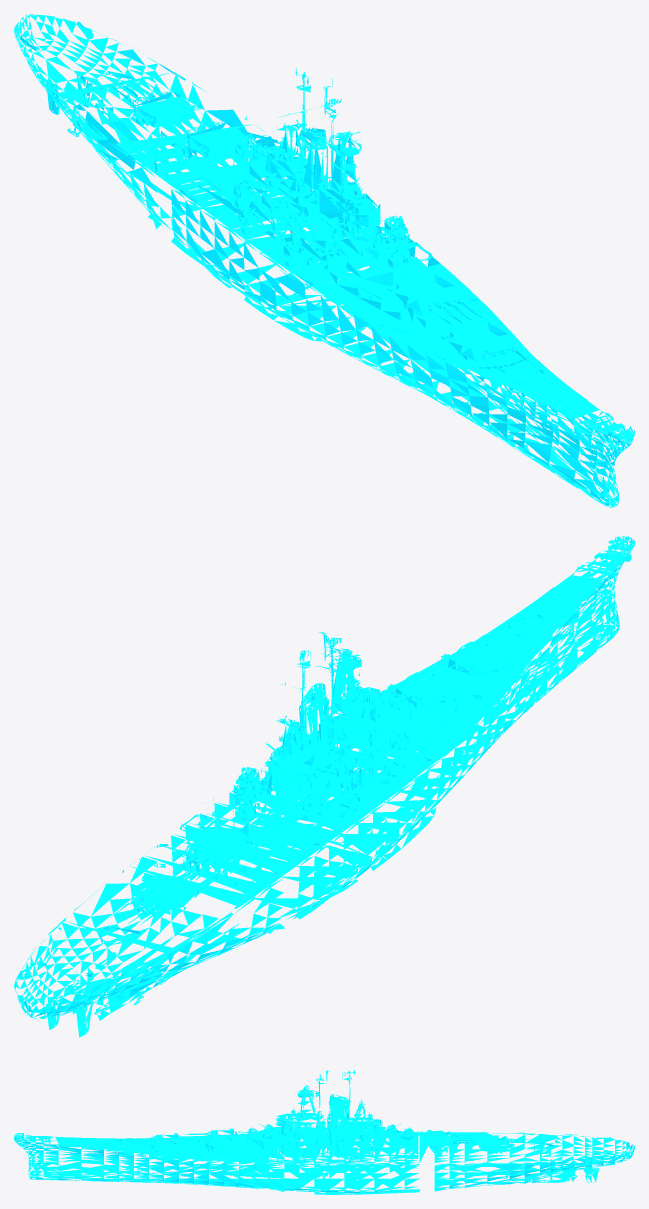
Rendered from PASB111.glb.
3 views of the same model, one above another, from view 1: azimuth 30°, elevation 25°; view 2: azimuth 150°, elevation 25°; view 3: azimuth 270°, elevation 25° (orthographic). The views are drawn at different scales.
Visible parts, largest first — view 1: hull, turret; view 2: hull, turret; view 3: hull, turret.
Part boxes in pixels (x1,y1,x2,y2): hull: (14, 14, 634, 507); turret: (109, 78, 535, 373); hull: (14, 536, 634, 1037); turret: (110, 626, 535, 924); hull: (14, 1070, 634, 1194); turret: (126, 1117, 534, 1158).
Size of the model in its own units: 2.61 by 4.31 by 20.98.
